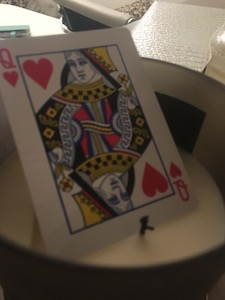QueenOfHearts: (1, 23, 201, 265)
